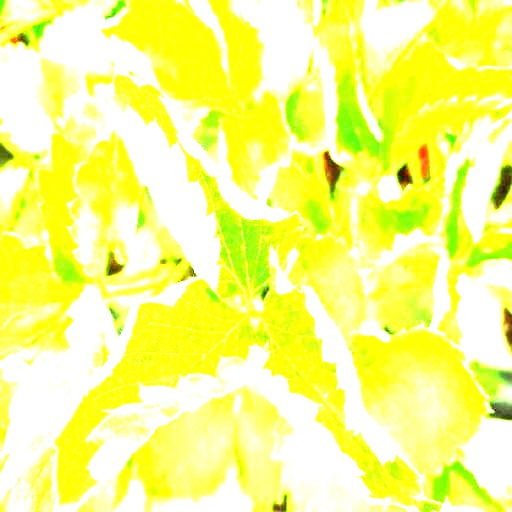Powdery Mildew Leaf: (47, 274, 270, 511), (96, 68, 306, 298), (250, 251, 425, 511), (92, 0, 239, 134), (311, 13, 386, 181), (439, 111, 511, 266), (219, 89, 292, 200), (426, 249, 472, 367)
